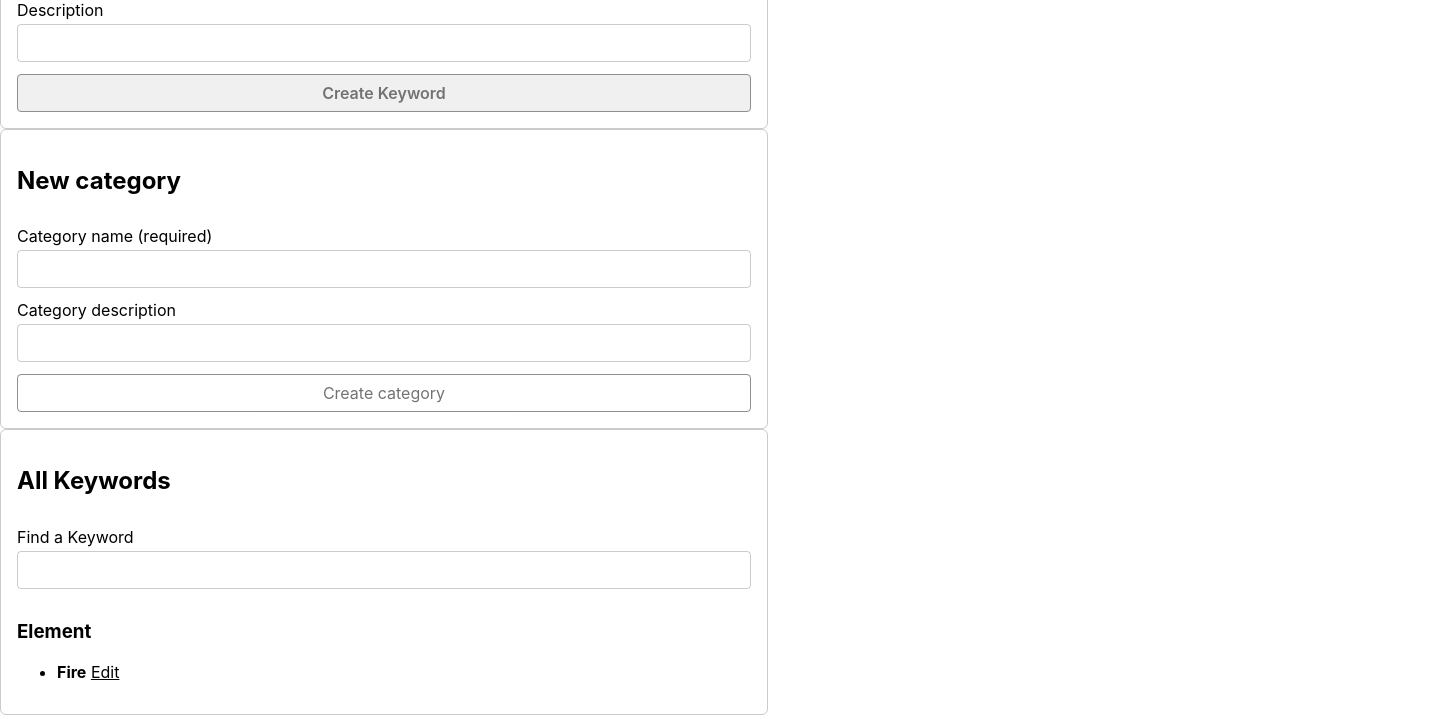
RULES-WO1 Phase C — reference previews and Keywords › R09: an imported Keyword is shown read-only and cannot be saved
(page scrolled)
Click the button with aria-label "Edit Fire". click: [105, 672]
box: [91,662,119,682]
(page scrolled)
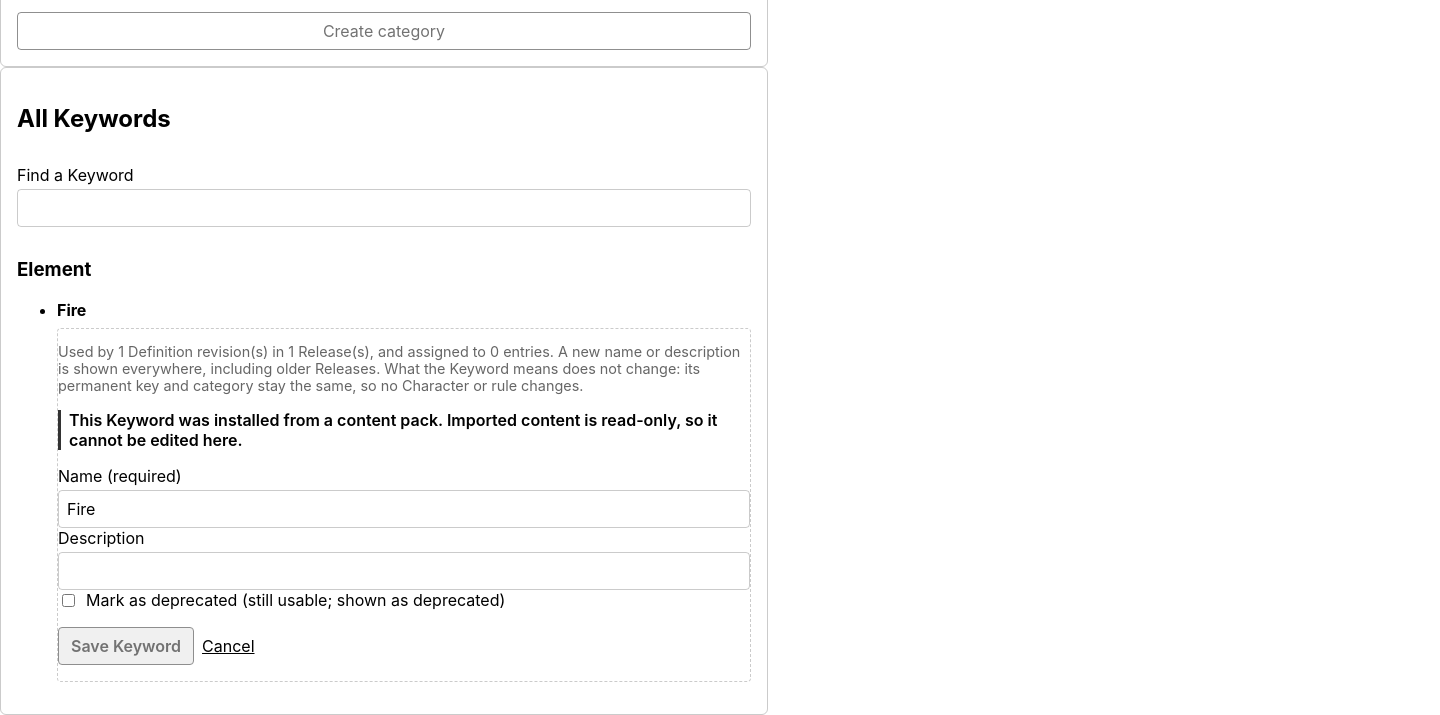
Expected: the text with test id "keyword-imported" shows "read-only", [69,410,717,450]
Expected: the field named "Keyword name" is disabled, [58,490,750,528]
Expected: the button "Save Keyword" is disabled, [58,627,194,665]
